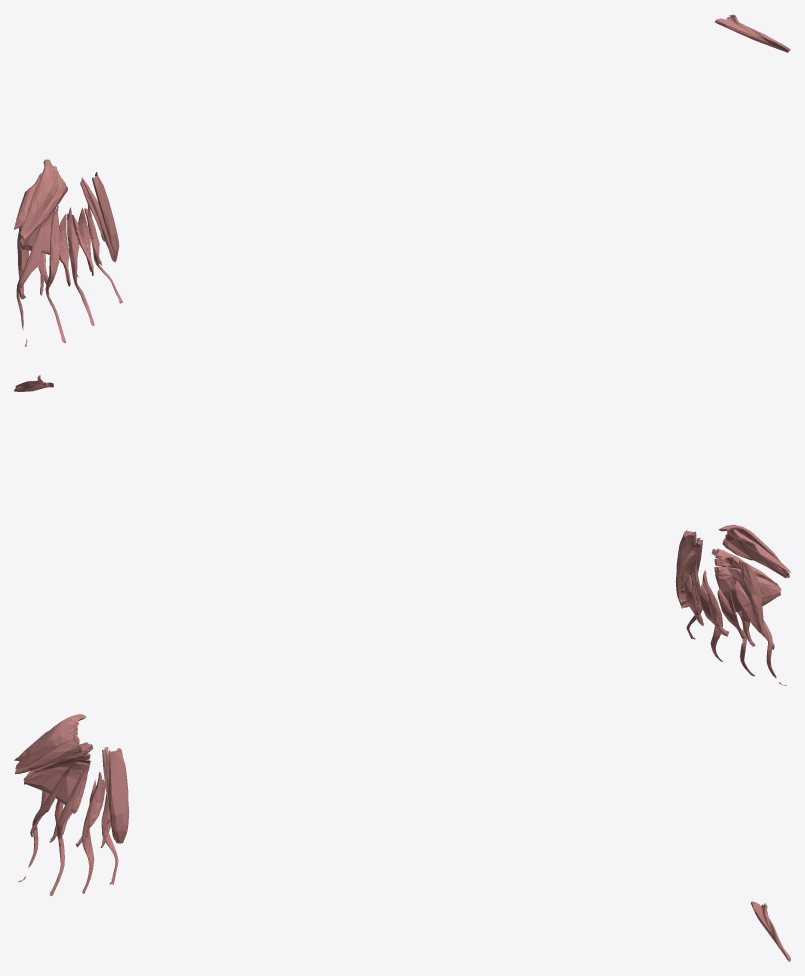
File: hand-muscle.glb
The picture shows the model from 3 angles, top to bottom: view 1: azimuth 30°, elevation 25°; view 2: azimuth 150°, elevation 25°; view 3: azimuth 330°, elevation 25°; orthographic projection.
Parts seen in each view (by area): view 1: lumbricals-group__BP6633, dorsal-interossei-group__BP6629, abductor-pollicis-brevis__BP4855, abductor-digiti-minimi__BP7569, flexor-pollicis-brevis__BP8958; view 2: dorsal-interossei-group__BP6629, lumbricals-group__BP6633, adductor-pollicis-transverse-head__BP5543, opponens-pollicis__BP4853, abductor-digiti-minimi__BP7569, opponens-digiti-minimi__BP4860, adductor-pollicis-oblique-head__BP5560; view 3: lumbricals-group__BP6633, abductor-digiti-minimi__BP7569, adductor-pollicis-transverse-head__BP5543, abductor-pollicis-brevis__BP4855, flexor-pollicis-brevis__BP5556, dorsal-interossei-group__BP6629, flexor-pollicis-brevis__BP8958, adductor-pollicis-oblique-head__BP5560, palmar-interossei-group__BP6631.
Part boxes in pixels (<box>): lumbricals-group__BP6633: <box>16,204,122,346</box>; dorsal-interossei-group__BP6629: <box>17,207,93,299</box>; abductor-pollicis-brevis__BP4855: <box>20,159,59,235</box>; abductor-digiti-minimi__BP7569: <box>92,172,119,261</box>; flexor-pollicis-brevis__BP8958: <box>715,14,790,52</box>; dorsal-interossei-group__BP6629: <box>685,560,774,649</box>; lumbricals-group__BP6633: <box>686,559,786,685</box>; adductor-pollicis-transverse-head__BP5543: <box>714,566,780,611</box>; opponens-pollicis__BP4853: <box>722,525,790,572</box>; abductor-digiti-minimi__BP7569: <box>675,530,696,608</box>; opponens-digiti-minimi__BP4860: <box>680,539,702,595</box>; adductor-pollicis-oblique-head__BP5560: <box>711,548,781,590</box>; lumbricals-group__BP6633: <box>18,764,118,895</box>; abductor-digiti-minimi__BP7569: <box>108,748,129,843</box>; adductor-pollicis-transverse-head__BP5543: <box>24,759,90,813</box>; abductor-pollicis-brevis__BP4855: <box>15,714,86,768</box>; flexor-pollicis-brevis__BP5556: <box>15,737,79,774</box>; dorsal-interossei-group__BP6629: <box>30,776,111,847</box>; flexor-pollicis-brevis__BP8958: <box>751,901,790,961</box>; adductor-pollicis-oblique-head__BP5560: <box>23,742,93,780</box>; palmar-interossei-group__BP6631: <box>49,782,110,842</box>.
Size of the model in its own units: 6.07 by 1.23 by 0.3915.
